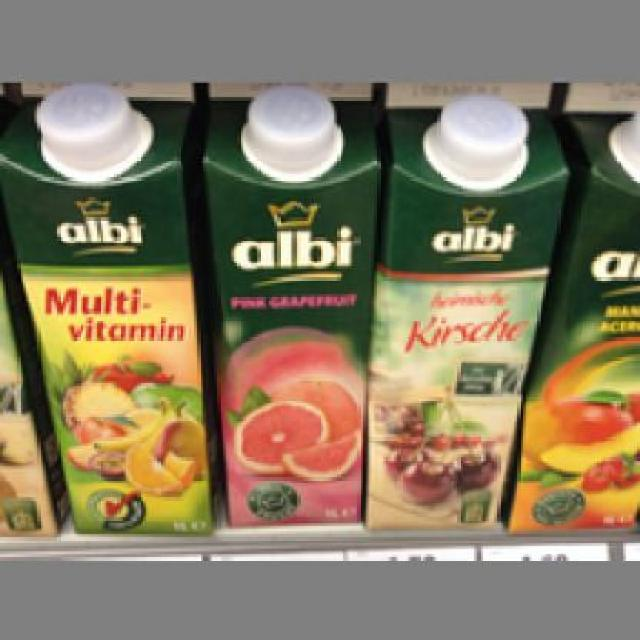Juice: (0, 78, 215, 535), (363, 80, 566, 529), (200, 80, 380, 526)
